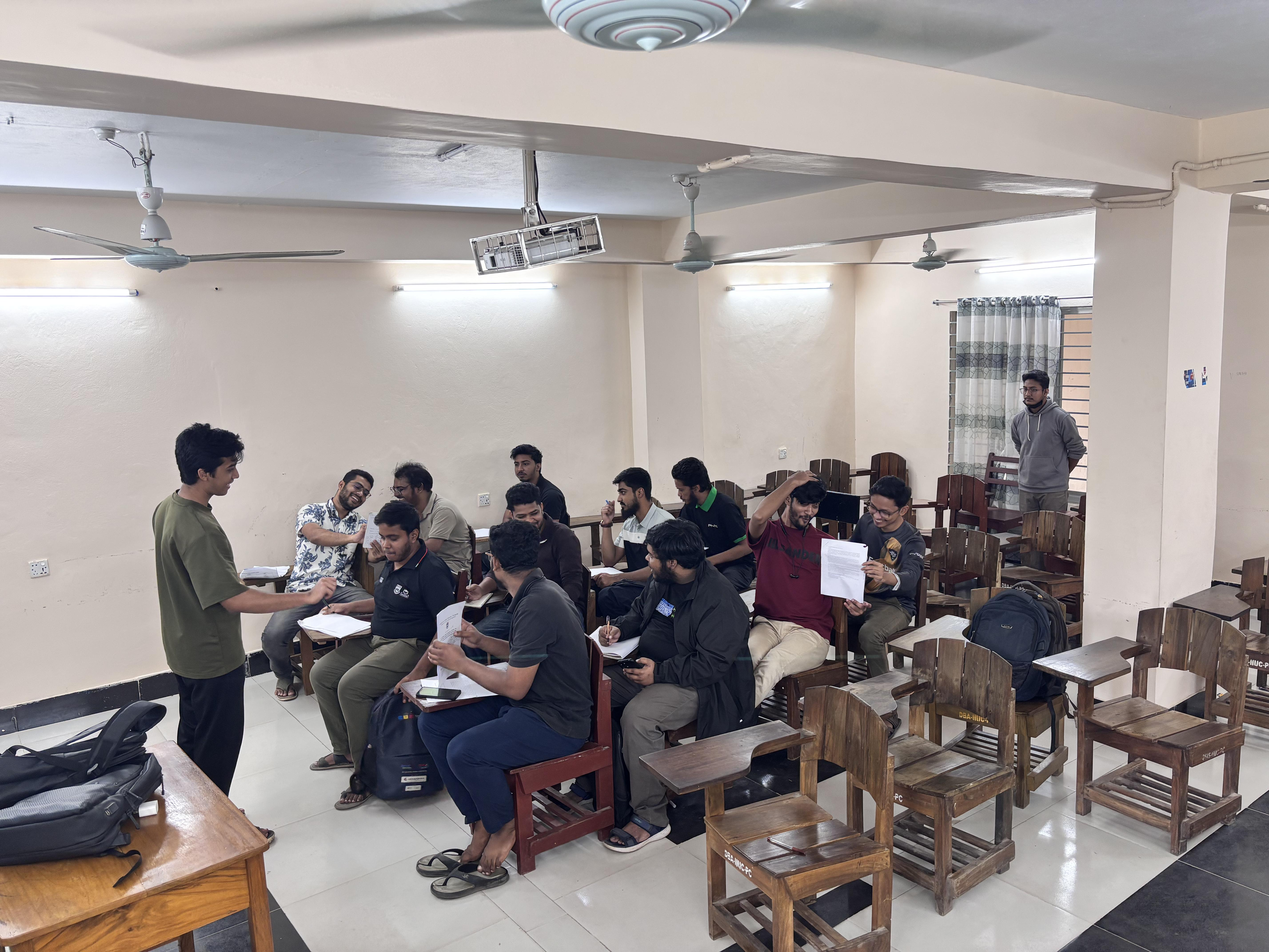hidden_communication: (741, 466, 935, 690), (273, 452, 478, 660)
invigilator: (144, 416, 343, 767), (1004, 357, 1085, 516)
no_cheating: (309, 502, 460, 812), (656, 453, 752, 560)
suspicious_moving: (418, 513, 608, 907), (501, 479, 594, 598), (591, 463, 679, 553), (485, 442, 580, 503)
using_phone: (593, 517, 758, 852)
